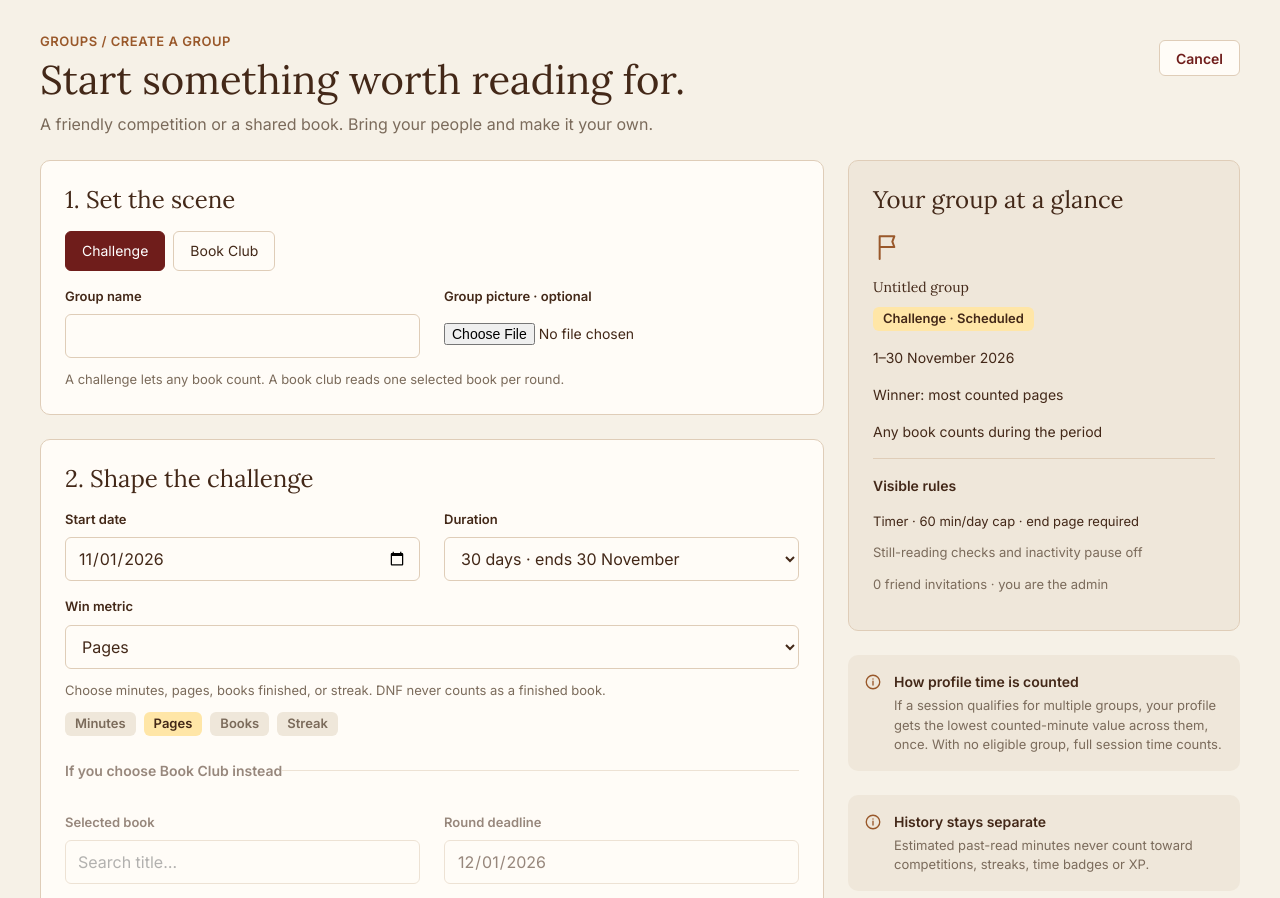
it: CreateGroupView › previews the challenge as the form changes
This screenshot has width=1280, height=898.
Type "November Pages" into the field with id "group-name" at (242,336), box left=65, top=314, right=420, bottom=358
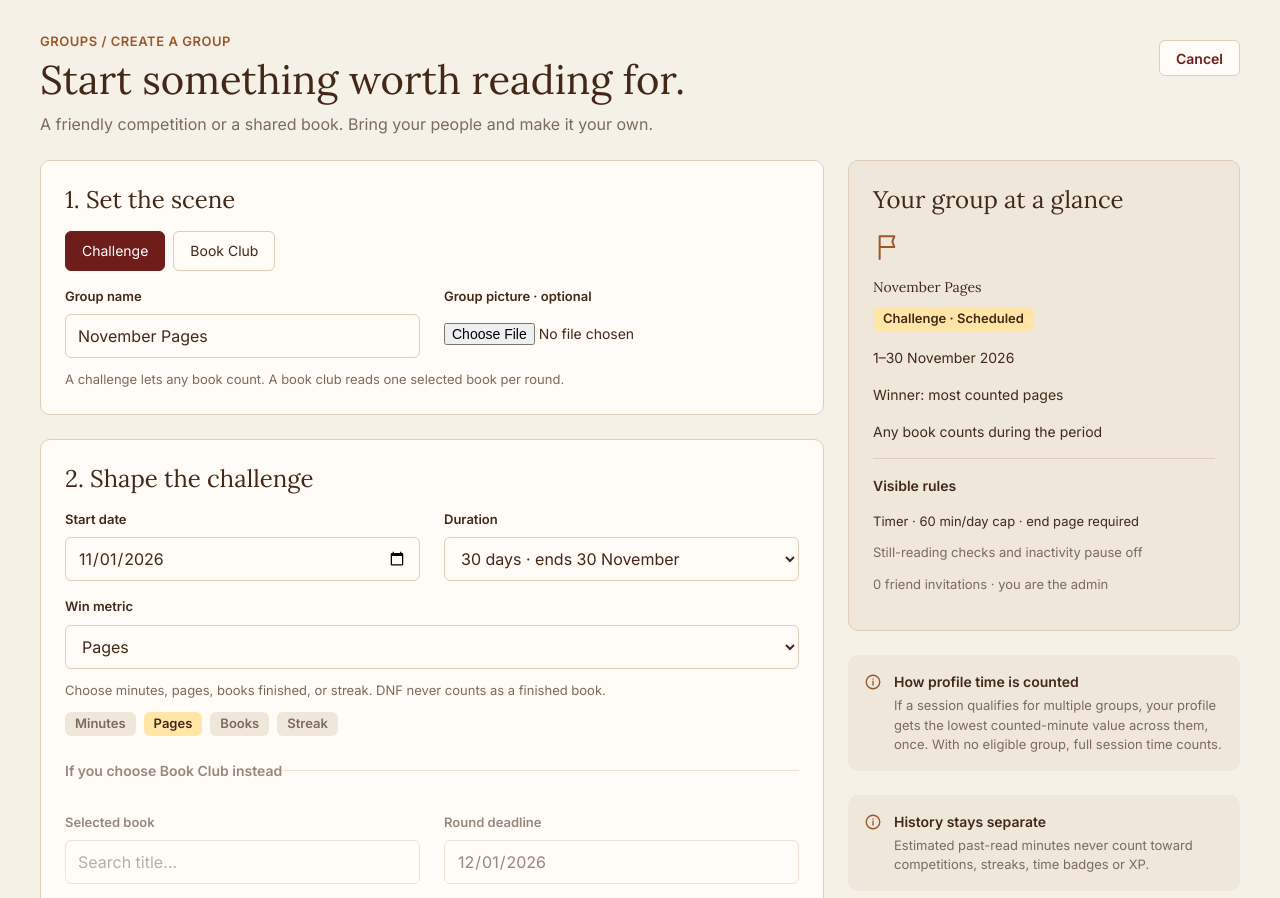
expect the element with class "glance" shows "1–30 November 2026": met, box left=873, top=349, right=1014, bottom=366
expect the element with class "glance" shows "November Pages": met, box left=873, top=278, right=982, bottom=296
Replace the text in the field with id "group-name" with "Winter Reads" at (242,336), box left=65, top=314, right=420, bottom=358
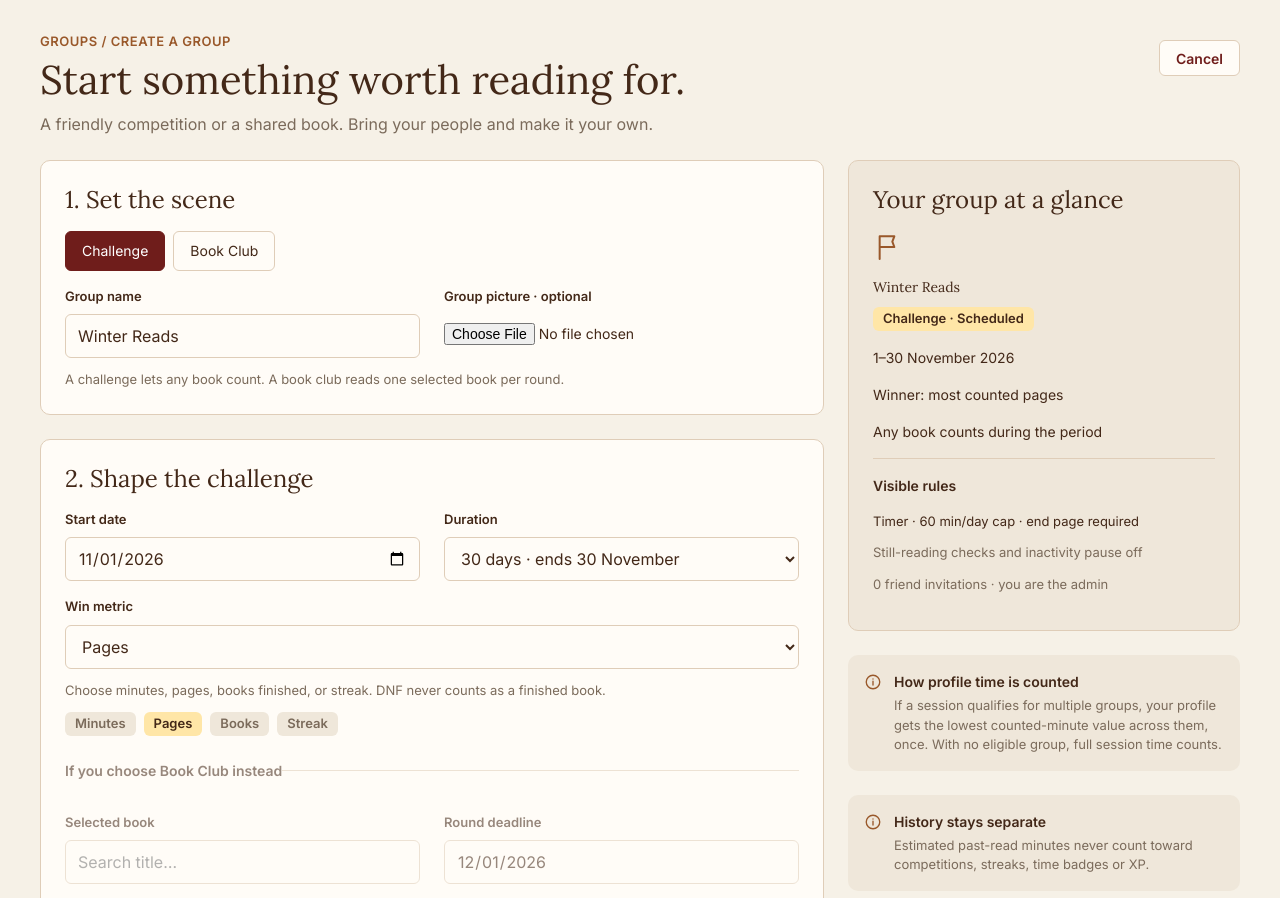
Select "Minutes" in the dropdown with id "metric" at (432,646), box left=65, top=624, right=799, bottom=668
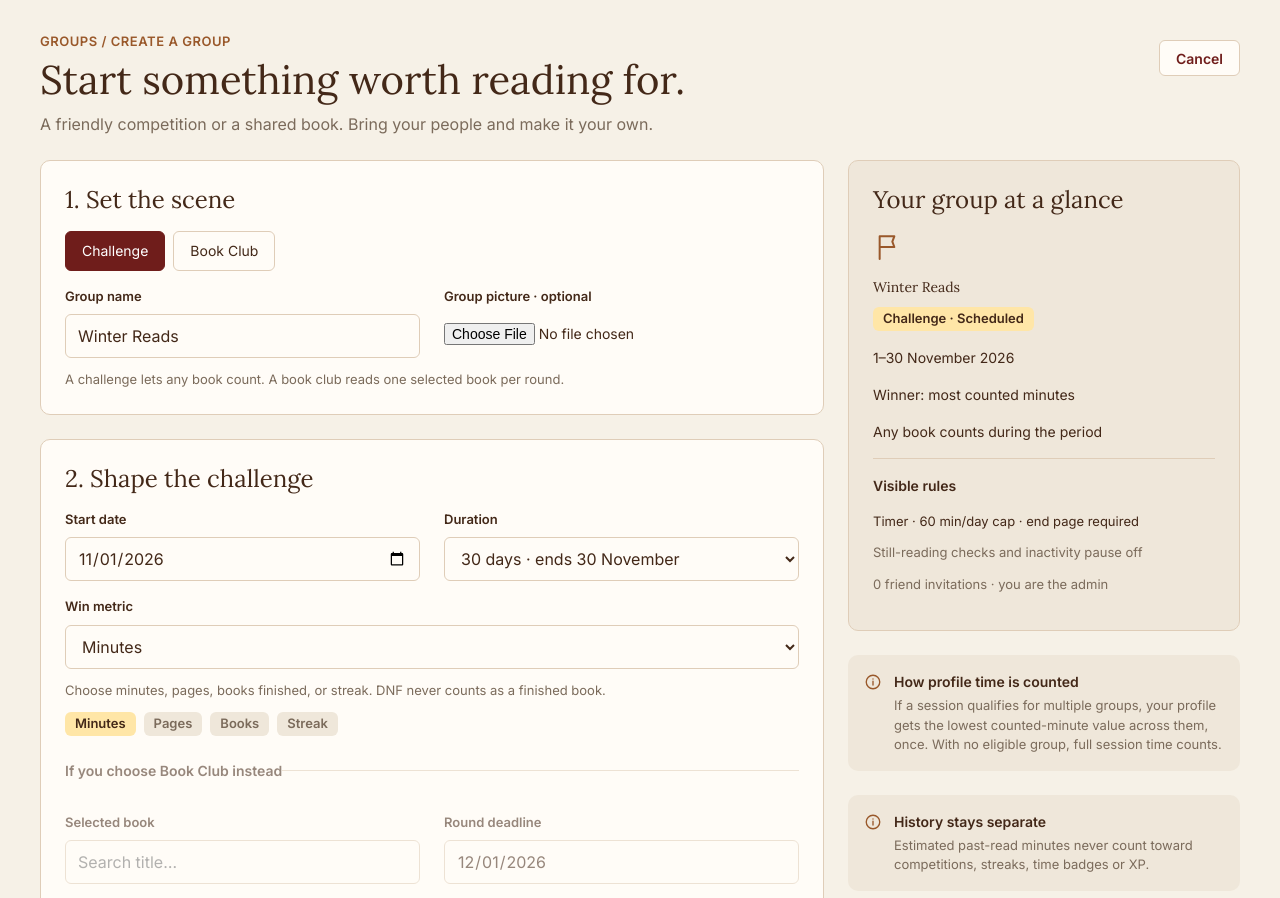
expect the element with class "glance" shows "Winter Reads": met, box left=873, top=278, right=960, bottom=296
expect the element with class "glance" shows "Winner: most counted minutes": met, box left=873, top=386, right=1075, bottom=403
